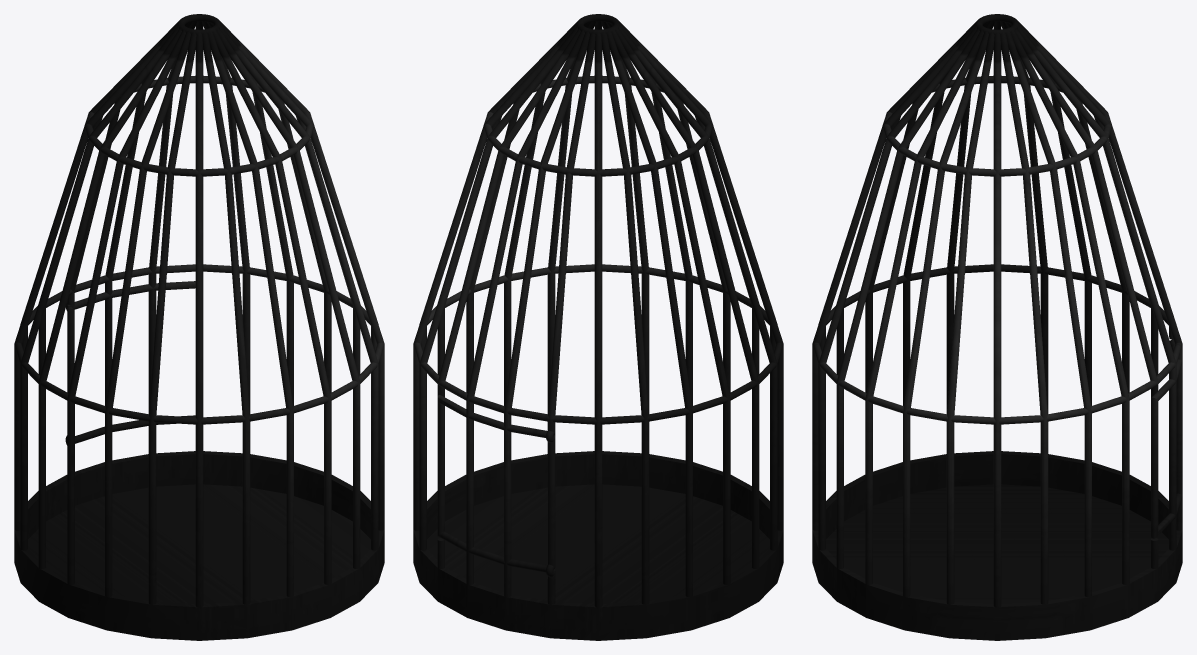
3 renders of one model, left to right at view 1: azimuth 30°, elevation 25°; view 2: azimuth 150°, elevation 25°; view 3: azimuth 270°, elevation 25°, orthographic.
Visible parts, largest first — view 1: Mesh1_BlackMetal_0; view 2: Mesh1_BlackMetal_0; view 3: Mesh1_BlackMetal_0.
Boxes of the visible parts, x1,y1,x2,y2 form: Mesh1_BlackMetal_0: [14, 14, 384, 640]; Mesh1_BlackMetal_0: [413, 14, 783, 640]; Mesh1_BlackMetal_0: [812, 14, 1182, 640].
Size of the model in its own units: 500 by 805 by 500.
Materials: 1 (1 with a texture image).
